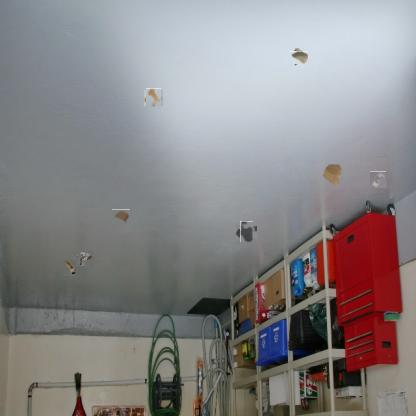dirty: (321, 163, 343, 187), (290, 50, 307, 66), (370, 172, 387, 188), (112, 209, 130, 224), (78, 250, 92, 266), (64, 260, 76, 276)
liquid: (145, 89, 162, 107), (238, 223, 255, 240)
